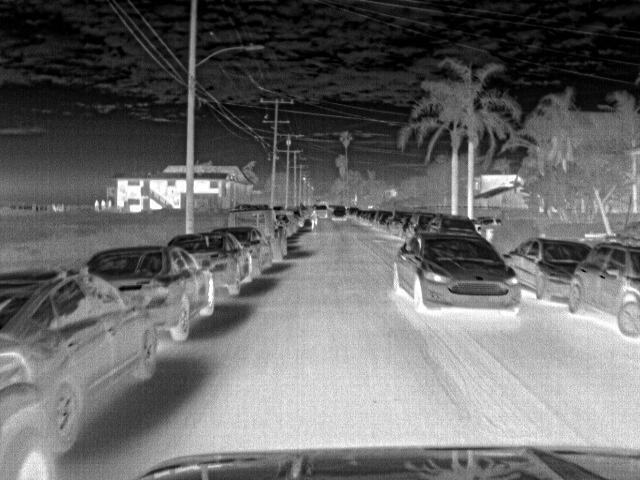car: (3, 266, 163, 478), (85, 244, 215, 343), (397, 230, 522, 315), (564, 241, 639, 340), (505, 235, 591, 305), (169, 232, 253, 302), (226, 206, 291, 262), (216, 226, 277, 275), (425, 216, 480, 234), (384, 209, 412, 239), (276, 204, 305, 230), (474, 216, 506, 234), (330, 204, 349, 224), (377, 213, 394, 229), (316, 204, 330, 220), (348, 206, 363, 220)
person: (309, 206, 319, 231), (93, 197, 101, 211), (100, 196, 108, 210), (106, 197, 112, 211)
